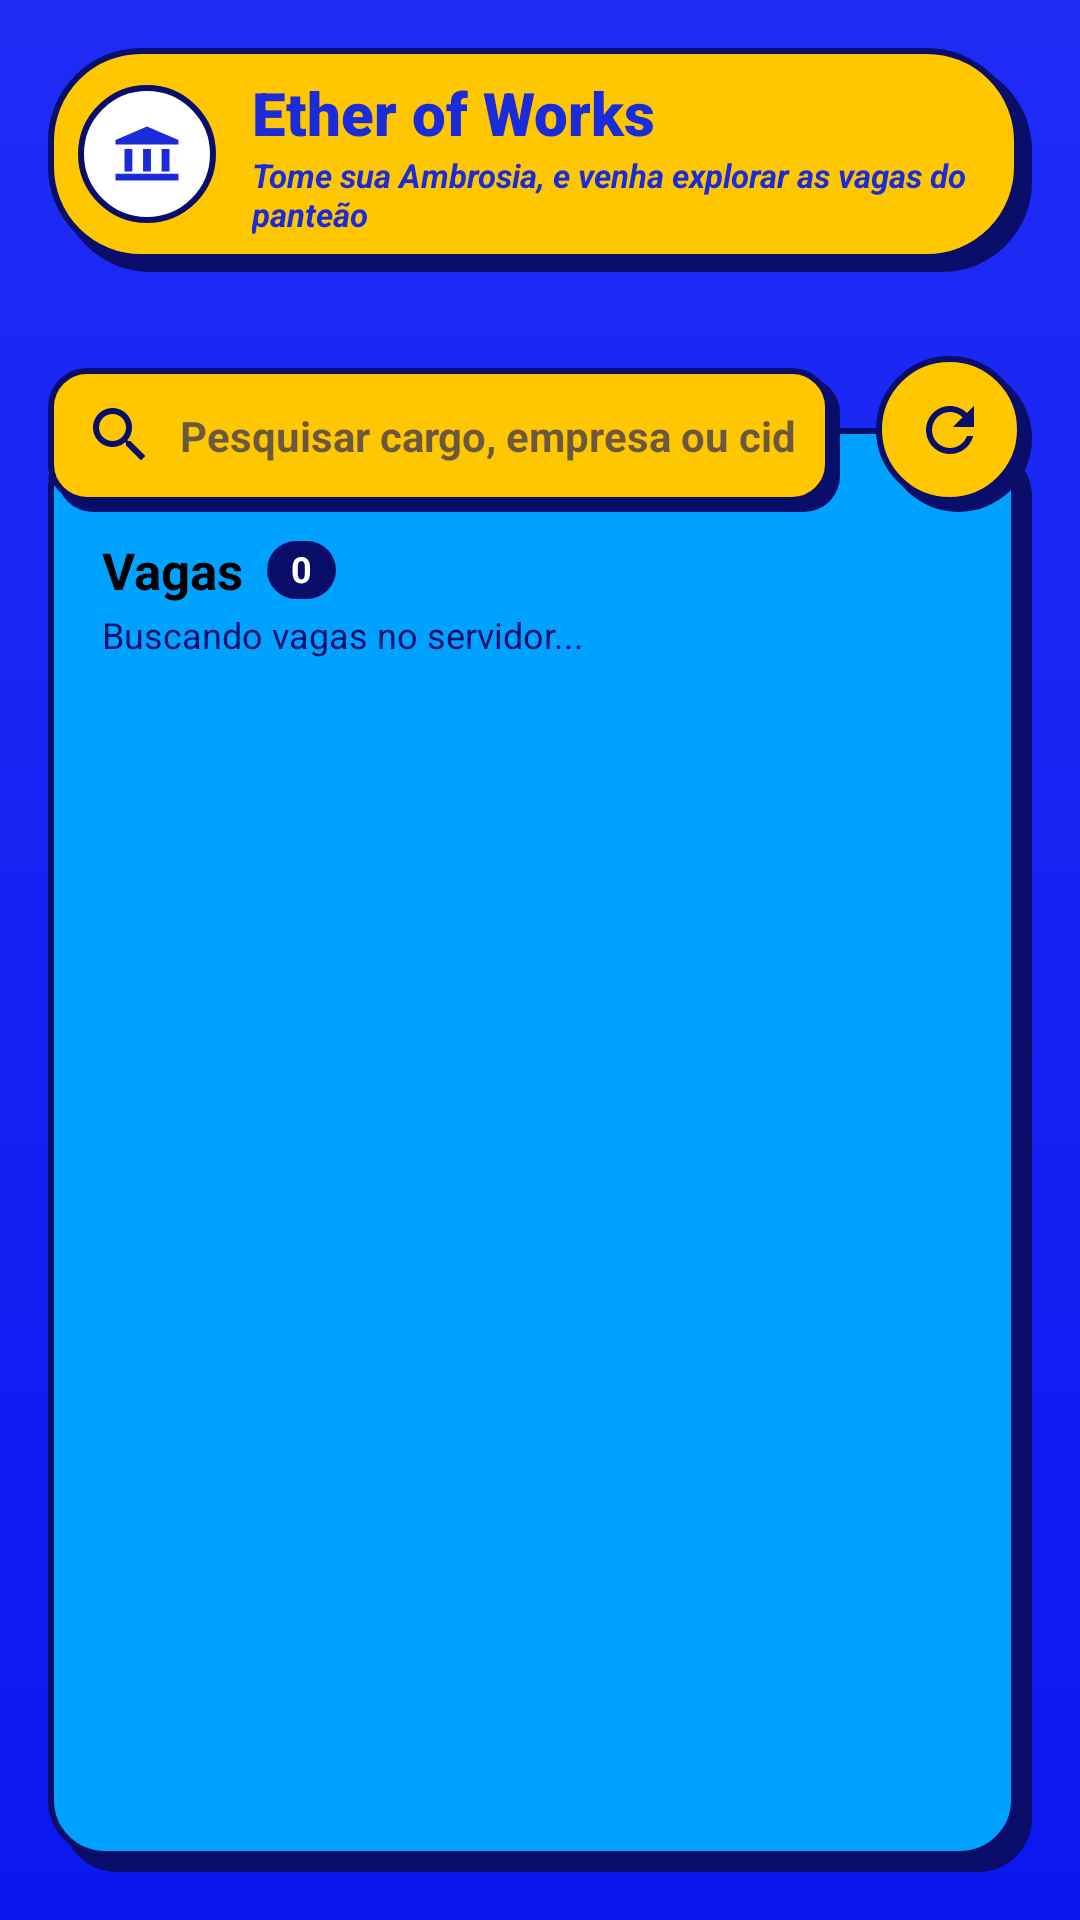

Icon bounding boxes for this 1080px x 1920px phone screenshot, format bbox(x1, y1, x2, y2):
Atualizar a lista de vagas: bbox(876, 356, 1032, 512)
